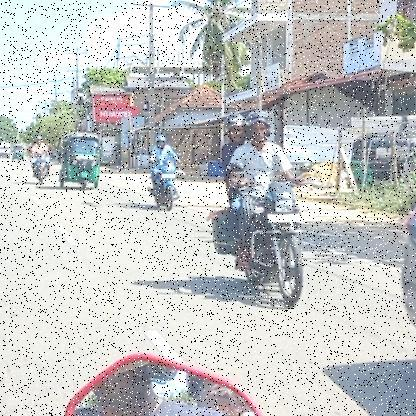motorcycle: (225, 178, 322, 308), (146, 157, 184, 214)
